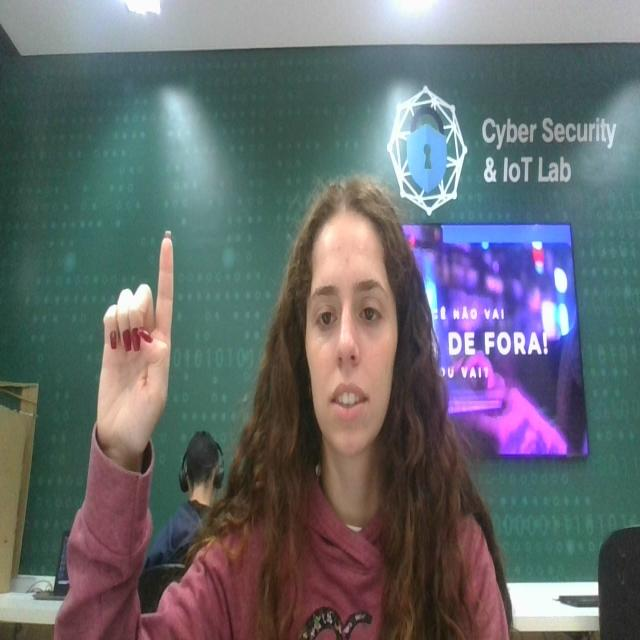D2: (94, 231, 188, 460)
